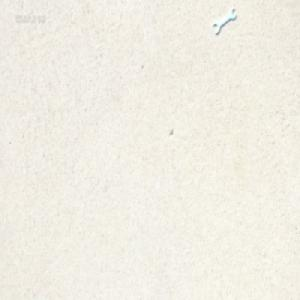Wrench: (210, 9, 235, 36)
